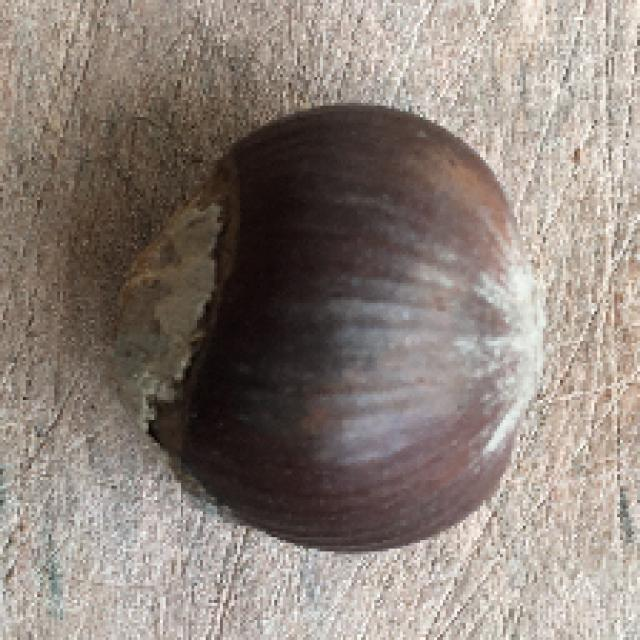damagedHazelnut: (119, 98, 548, 555)
